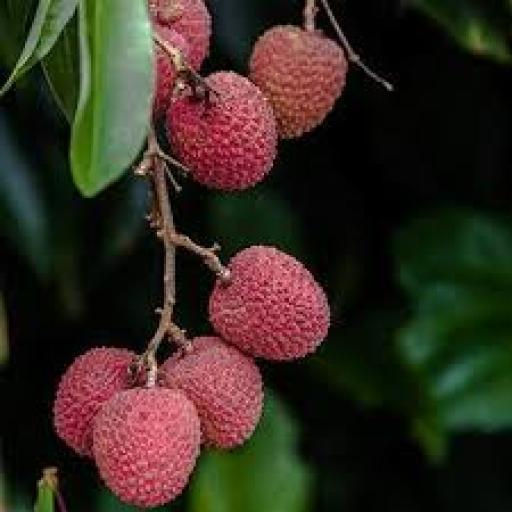lychee: (210, 246, 329, 359), (167, 71, 277, 191), (94, 387, 200, 507), (160, 337, 263, 448), (251, 26, 348, 138), (53, 349, 136, 457), (148, 0, 211, 70), (153, 44, 177, 116)
